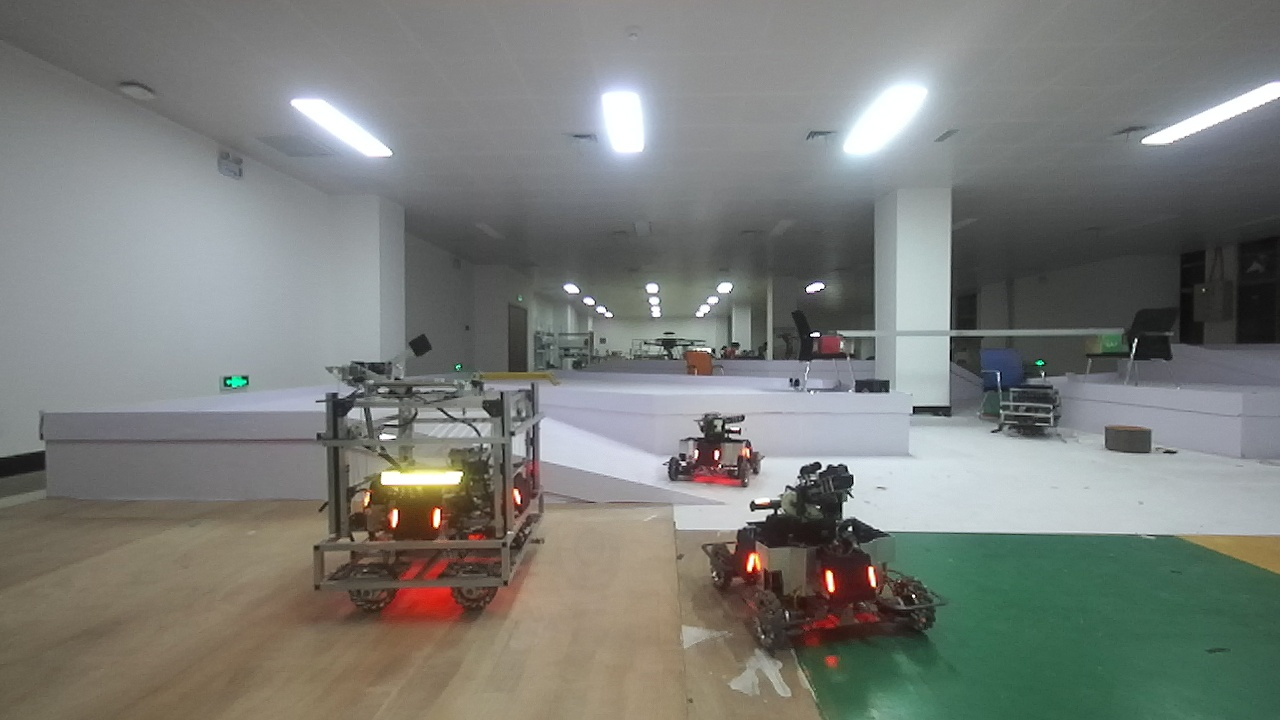car: (321, 374, 548, 631), (711, 469, 951, 661), (666, 423, 769, 497)
